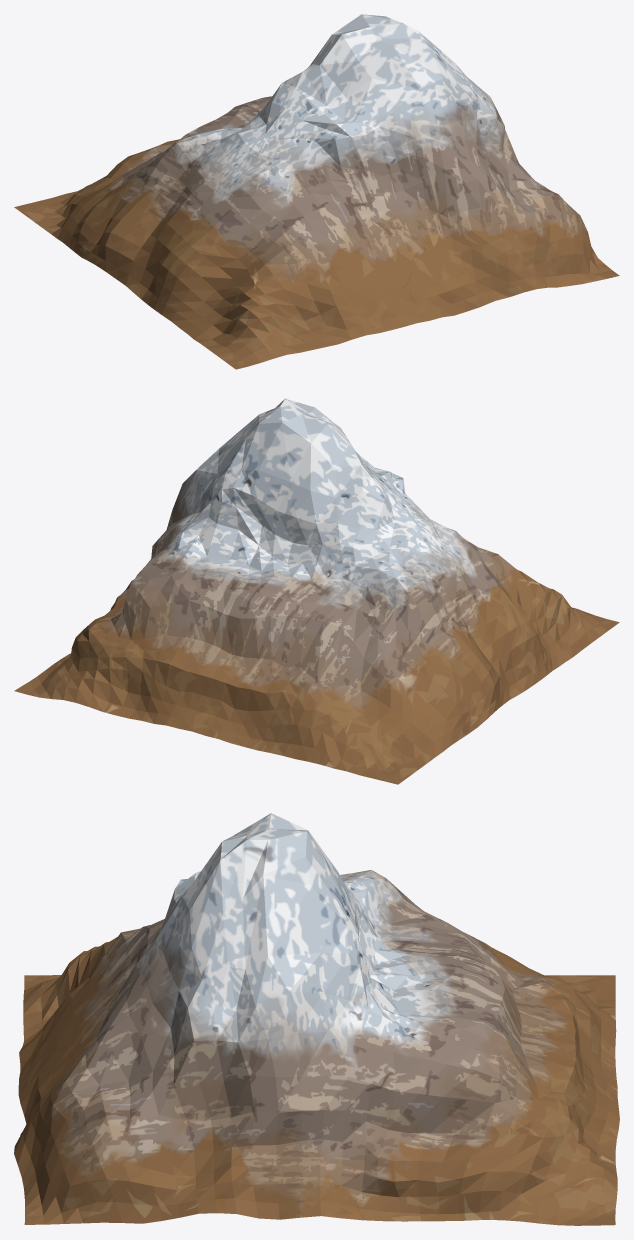
Rendered from m_mountain03.fbx.
3 views of the same model, one above another, from view 1: azimuth 30°, elevation 25°; view 2: azimuth 150°, elevation 25°; view 3: azimuth 270°, elevation 25° (orthographic). The views are drawn at different scales.
Visible parts, largest first — view 1: pPlane50; view 2: pPlane50; view 3: pPlane50.
Part boxes in pixels (x1=…): pPlane50: x1=14, y1=14, x2=619, y2=369; pPlane50: x1=14, y1=398, x2=619, y2=784; pPlane50: x1=14, y1=813, x2=619, y2=1225.
Bounding box in the file's own units: 1481 × 805 × 1459.
1 material, 1 textured.
